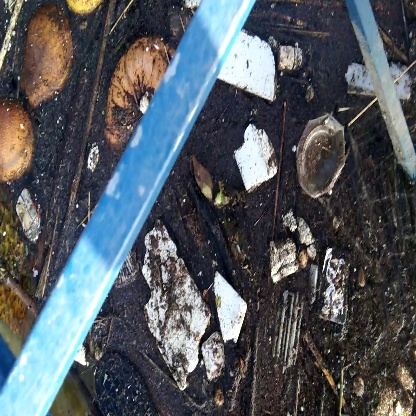plastic-garbage: (229, 116, 278, 187)
